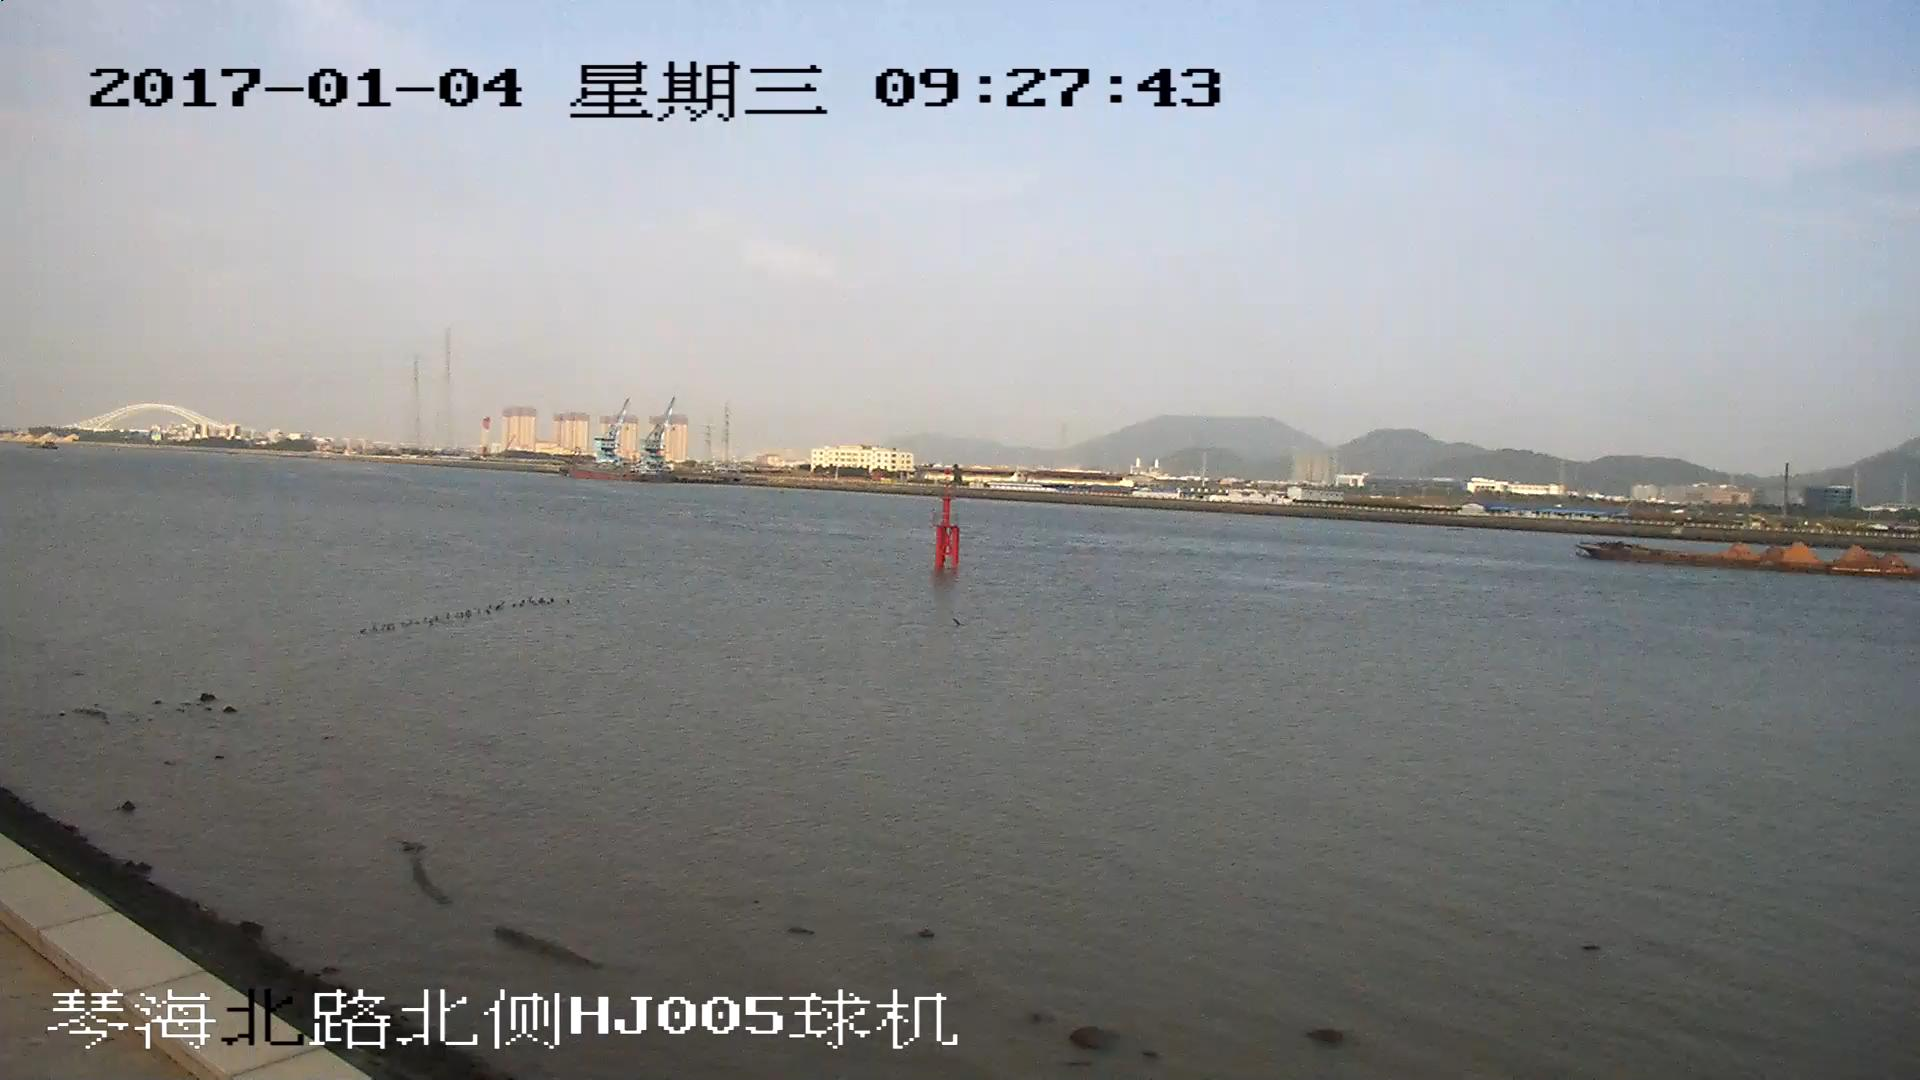ore carrier: (1586, 540, 1920, 577)
